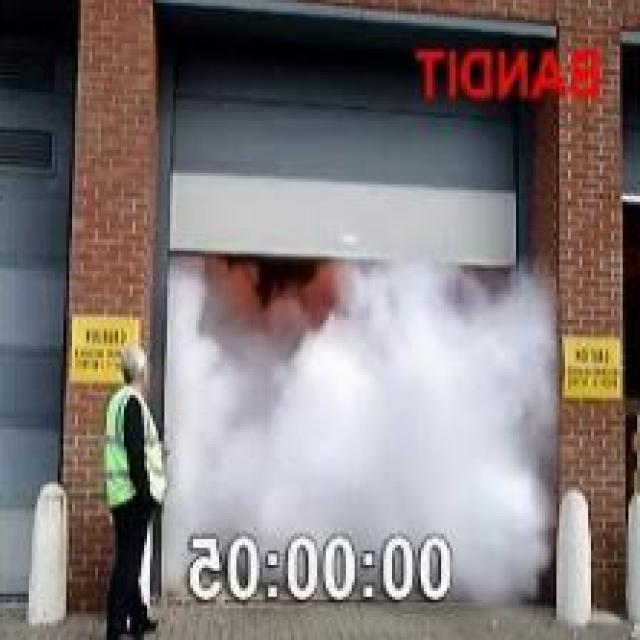fire: (168, 261, 558, 526)
